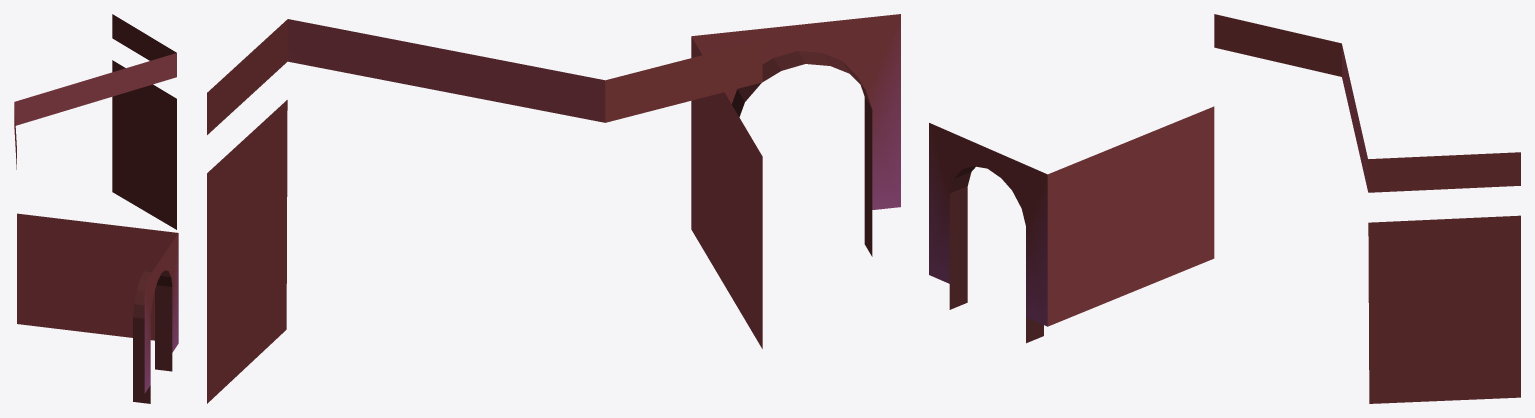
File: ClothingBuildingBrick.fbx
The picture shows the model from 3 angles, left to right: view 1: azimuth 30°, elevation 25°; view 2: azimuth 150°, elevation 25°; view 3: azimuth 270°, elevation 25°; orthographic projection. The views are drawn at different scales.
Parts seen in each view (by area): view 1: ClothingBuildingBrick; view 2: ClothingBuildingBrick; view 3: ClothingBuildingBrick.
Part boxes in pixels (<box>): ClothingBuildingBrick: <box>14,14,178,403</box>; ClothingBuildingBrick: <box>207,14,900,403</box>; ClothingBuildingBrick: <box>929,14,1520,403</box>.
Bounding box in the file's own units: 476 × 415 × 819.
